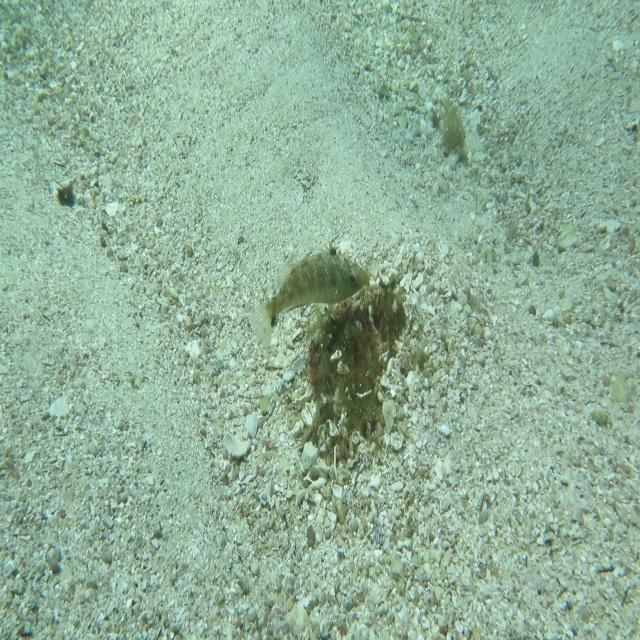FAN: (248, 239, 370, 352)
core_nest: (353, 299, 393, 338)
nest: (288, 259, 417, 471)
vegetation: (433, 100, 469, 154), (58, 182, 76, 208)
